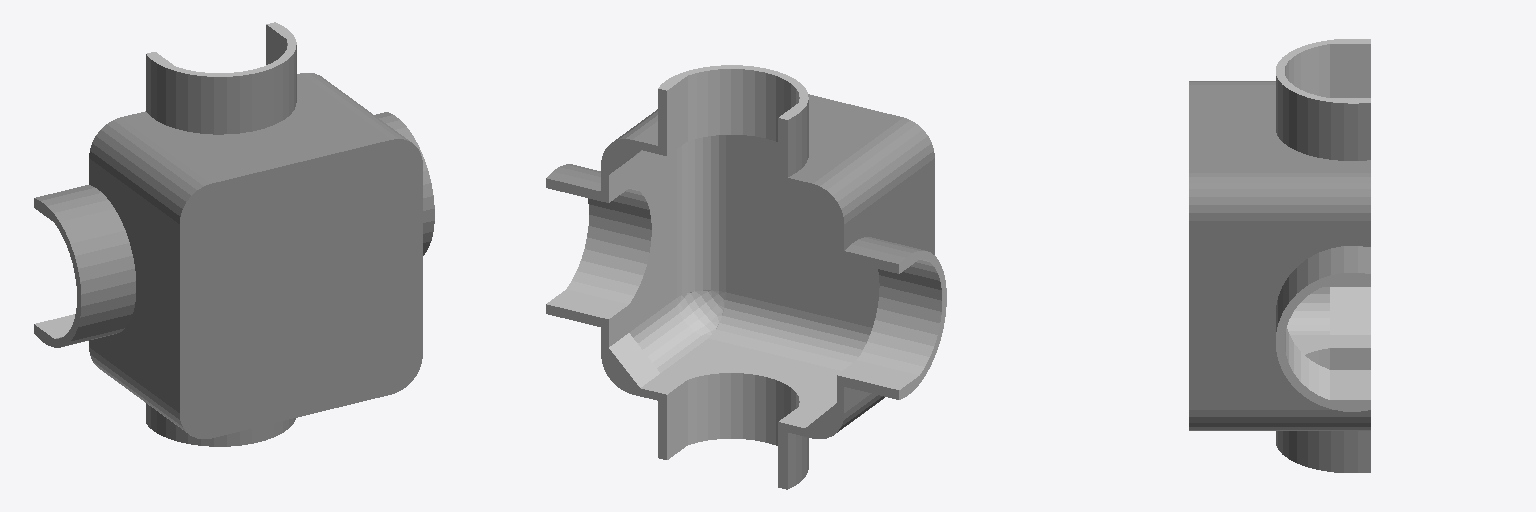
The model's file is X-Room.obj.
The picture shows the model from 3 angles: view 1: azimuth 30°, elevation 25°; view 2: azimuth 150°, elevation 25°; view 3: azimuth 270°, elevation 25°; orthographic projection.
Visible parts, largest first — view 1: X-Room; view 2: X-Room; view 3: X-Room.
Part boxes in pixels (bbox=[...]): X-Room: bbox=[34, 22, 434, 446]; X-Room: bbox=[546, 65, 946, 489]; X-Room: bbox=[1189, 39, 1370, 472].
Size of the model in its own units: 45 by 45 by 20.